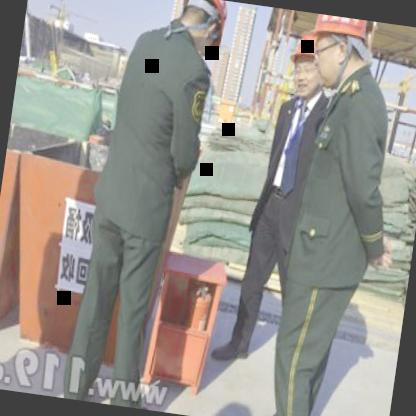helmet: (295, 12, 367, 96), (166, 0, 232, 63), (285, 30, 327, 97)
